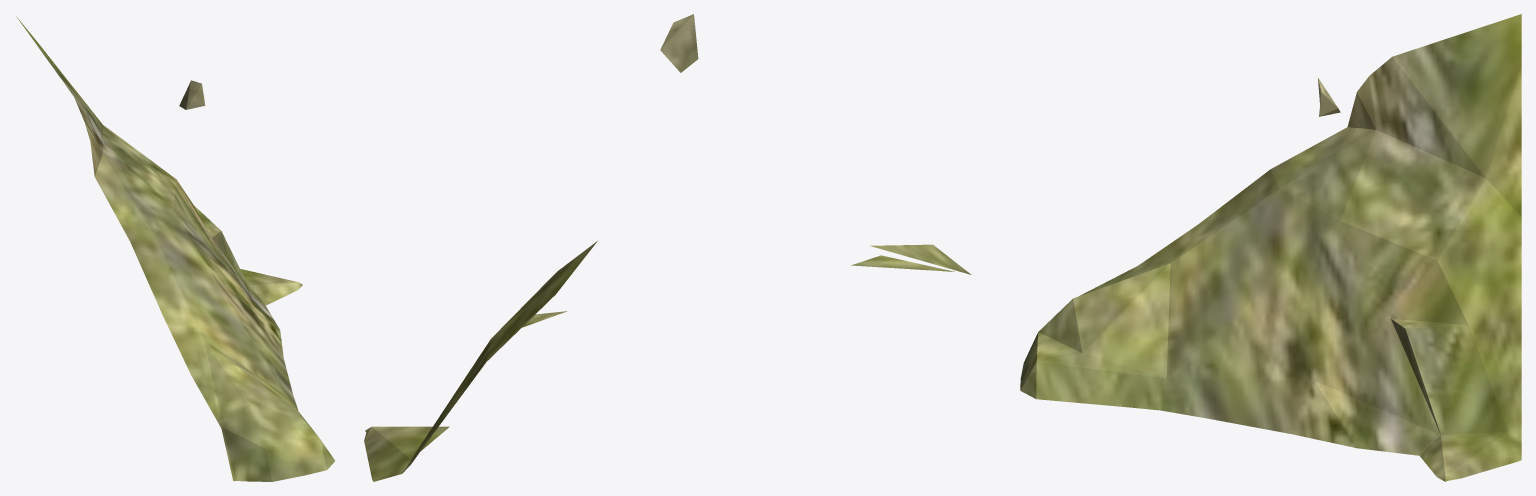
The picture shows the model from 3 angles, left to right: view 1: azimuth 30°, elevation 25°; view 2: azimuth 150°, elevation 25°; view 3: azimuth 270°, elevation 25°; orthographic projection. The views are drawn at different scales.
Bounding box in the file's own units: 0.734 × 0.8494 × 1.16.
Materials: 1 (1 with a texture image).
